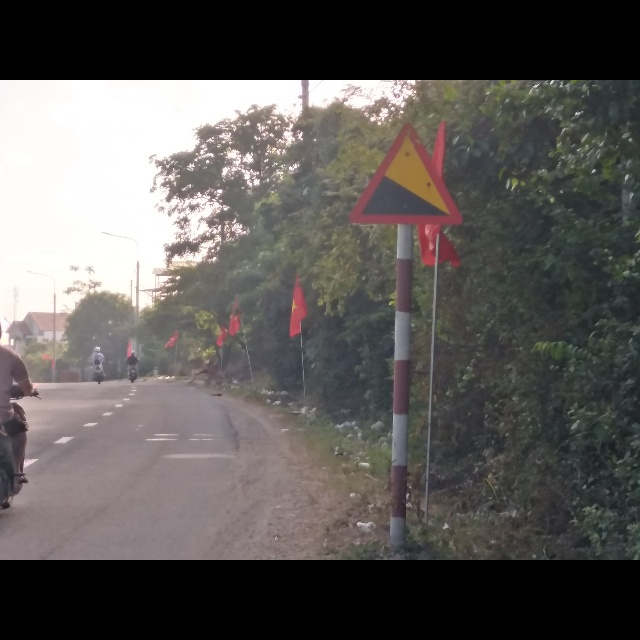Dốc lên nguy hiểm: (348, 118, 468, 224)
